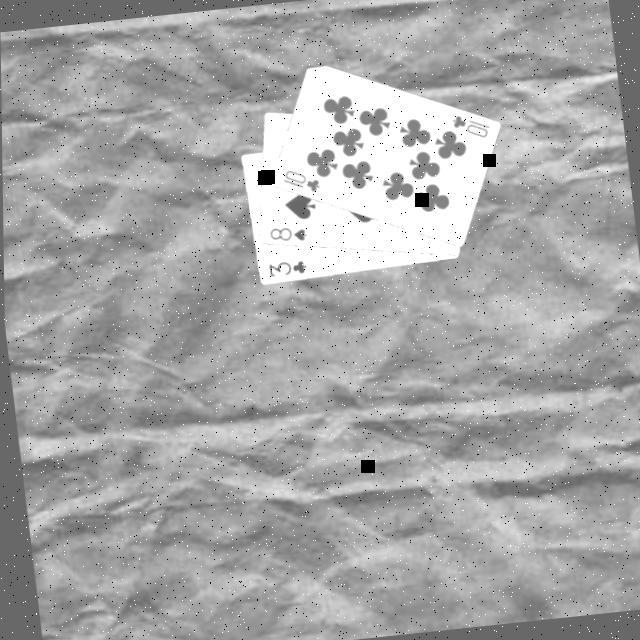10C: (447, 108, 494, 143), (278, 162, 322, 197)
3C: (264, 255, 310, 279)
8S: (265, 220, 309, 246)
